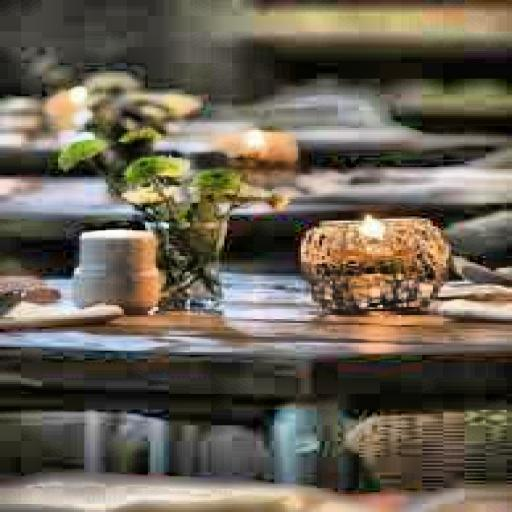fire: (354, 205, 390, 240)
